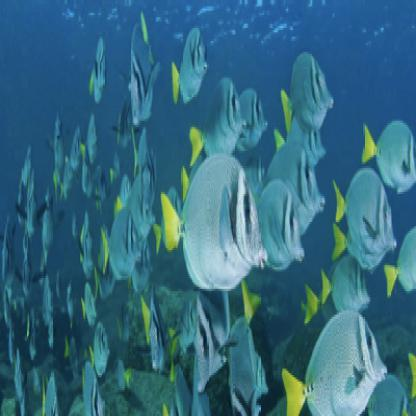Acanthuridae -Surgeonfishes-: (162, 141, 271, 290), (283, 311, 389, 413), (332, 161, 399, 258), (191, 264, 239, 398), (276, 42, 338, 135), (190, 72, 248, 169), (250, 176, 306, 273), (358, 105, 416, 191), (139, 277, 182, 380), (126, 12, 160, 128), (171, 23, 210, 109), (101, 201, 142, 277), (321, 251, 372, 309), (20, 161, 43, 241), (78, 210, 99, 279), (89, 318, 113, 378), (91, 31, 109, 107), (81, 277, 100, 326)
